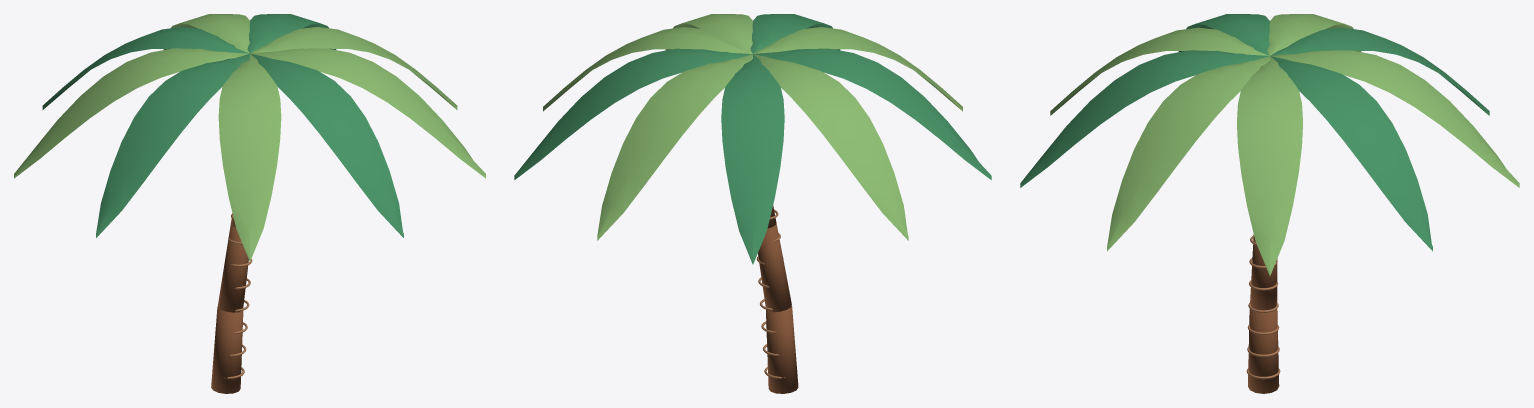
The model's file is palm.glb.
3 views of the same model, side by side, from view 1: azimuth 30°, elevation 25°; view 2: azimuth 150°, elevation 25°; view 3: azimuth 270°, elevation 25° (orthographic). The views are drawn at different scales.
Parts seen in each view (by area): view 1: palm_Sunlit leaves, palm_Palm jade, palm_Cedar wood, palm_Cliff warm strata; view 2: palm_Sunlit leaves, palm_Palm jade, palm_Cedar wood; view 3: palm_Sunlit leaves, palm_Palm jade, palm_Cedar wood, palm_Cliff warm strata.
Boxes of the visible parts, <box> form: palm_Sunlit leaves: <box>14,14,485,261</box>; palm_Palm jade: <box>42,14,403,237</box>; palm_Cedar wood: <box>211,213,248,393</box>; palm_Cliff warm strata: <box>223,214,252,378</box>; palm_Sunlit leaves: <box>543,14,962,240</box>; palm_Palm jade: <box>514,14,991,264</box>; palm_Cedar wood: <box>758,205,798,393</box>; palm_Sunlit leaves: <box>1050,14,1519,275</box>; palm_Palm jade: <box>1020,14,1489,251</box>; palm_Cedar wood: <box>1248,234,1279,393</box>; palm_Cliff warm strata: <box>1246,235,1280,379</box>.
Bounding box in the file's own units: 10.67 × 8.4 × 10.83.
